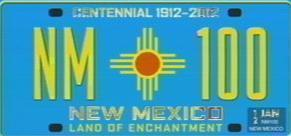placa de veiculo: (4, 2, 285, 134)
